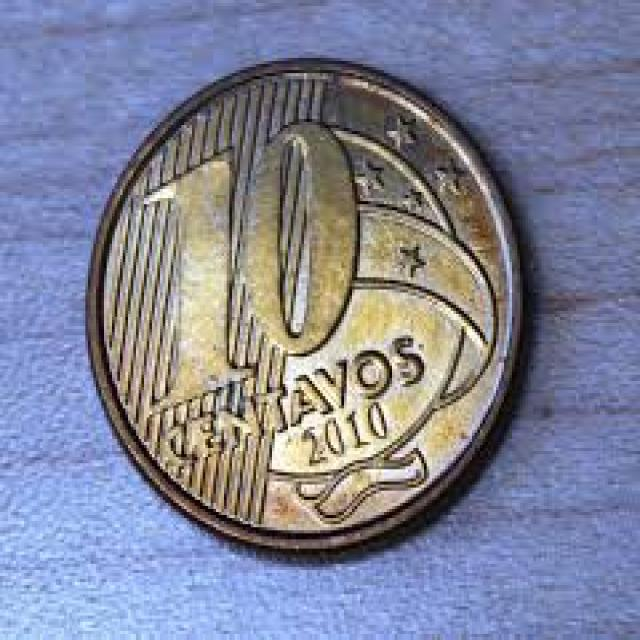10 cent: (92, 58, 524, 541)
